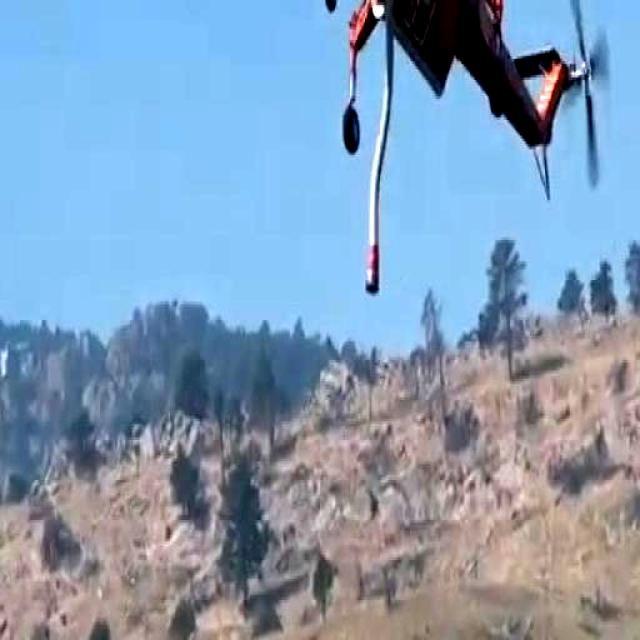drone: (199, 0, 640, 225)
